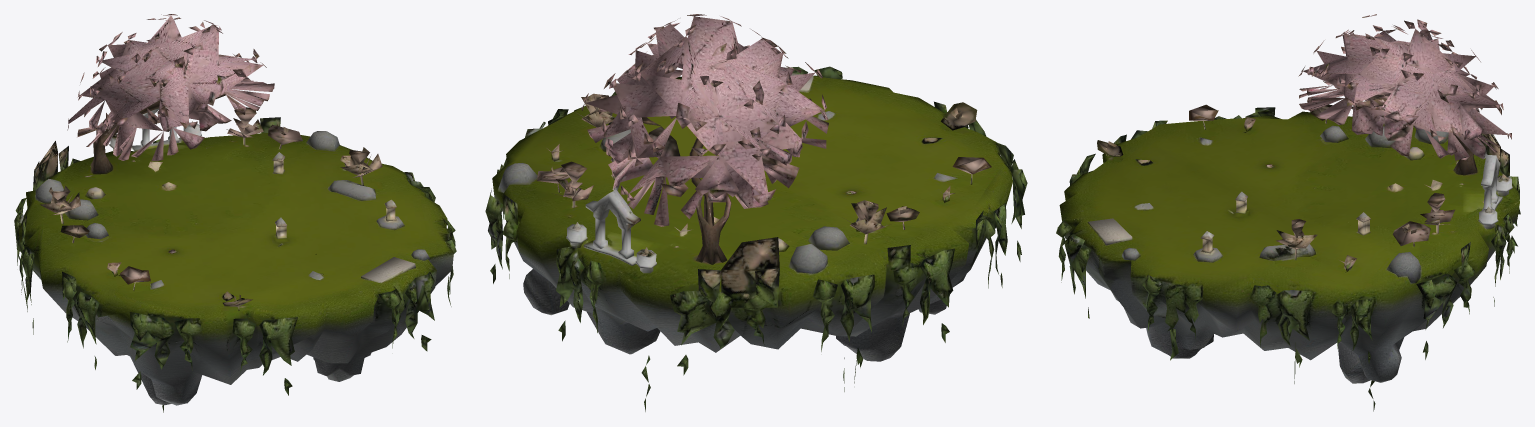
File: living-island.glb
The picture shows the model from 3 angles, left to right: view 1: azimuth 30°, elevation 25°; view 2: azimuth 150°, elevation 25°; view 3: azimuth 270°, elevation 25°; orthographic projection. The views are drawn at different scales.
Parts seen in each view (by area): view 1: Cherry Blossom Skyhaven; view 2: Cherry Blossom Skyhaven; view 3: Cherry Blossom Skyhaven.
Part boxes in pixels (<box>): Cherry Blossom Skyhaven: <box>14,14,456,412</box>; Cherry Blossom Skyhaven: <box>485,14,1027,411</box>; Cherry Blossom Skyhaven: <box>1056,14,1520,411</box>.
Size of the model in its own units: 0.959 by 0.8613 by 0.998.
Materials: 1 (1 with a texture image).
